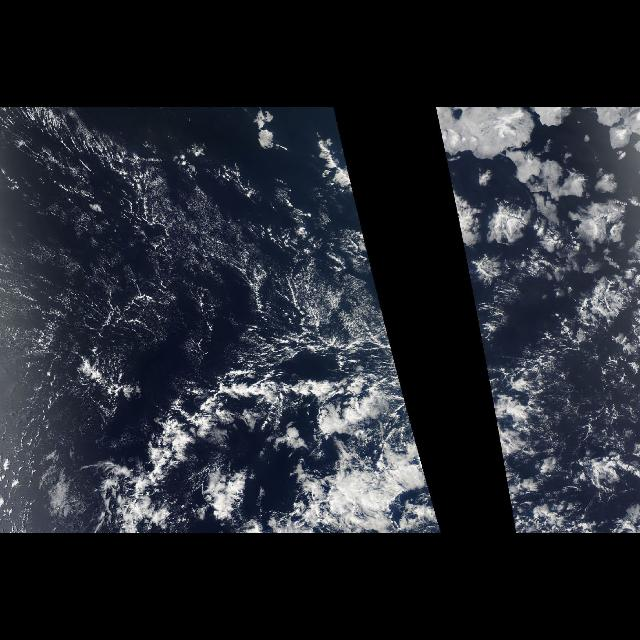Flower: (440, 111, 638, 272)
Sugar: (3, 114, 381, 364)
